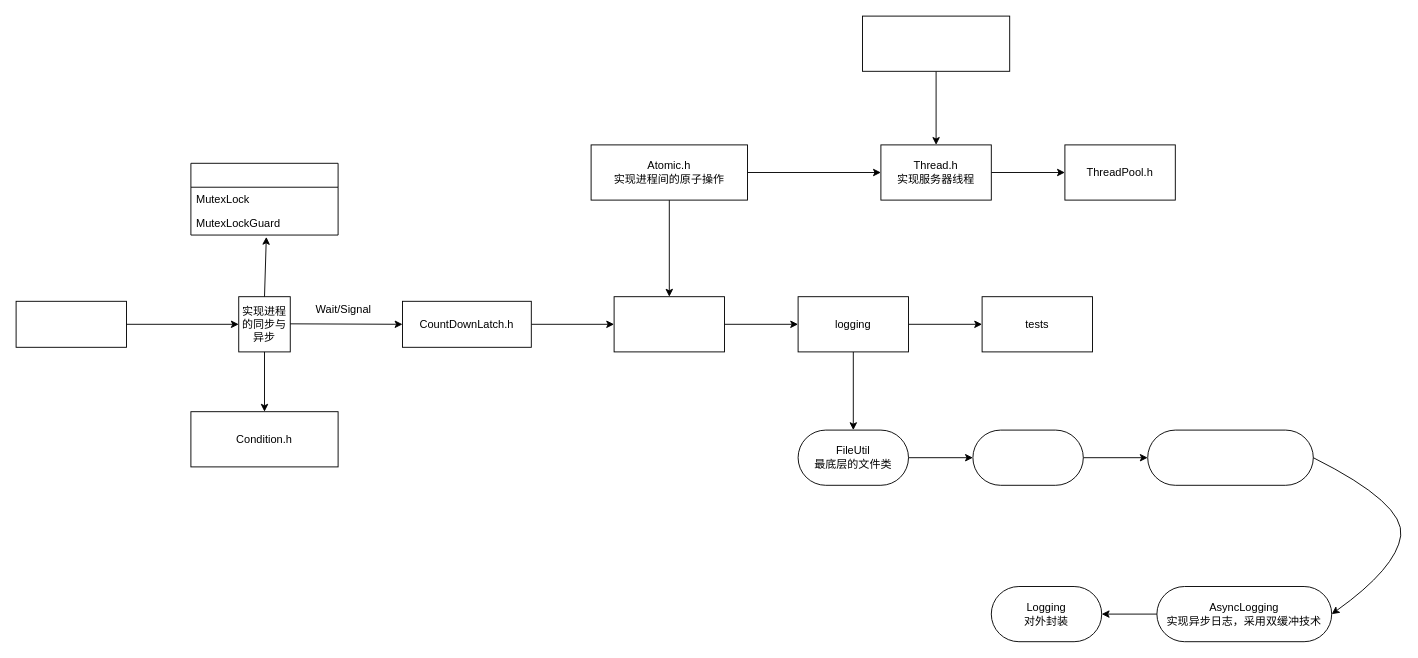
Image size: 1418x658. Some labels were removed from this diagram. The box of each missing label's shape, as (x1, y1, x2, y2) in pixels:
CurrentThread.h 现在所运行的线程中所有的资源RAII手法: (862, 15, 1010, 71)
LogFile 进一步封装FileUtil: (972, 429, 1083, 485)
Logstream: (1147, 429, 1313, 485)
Mutex.h: (190, 162, 338, 235)
Noncopyable: (15, 300, 126, 347)
thread: (613, 296, 724, 352)
